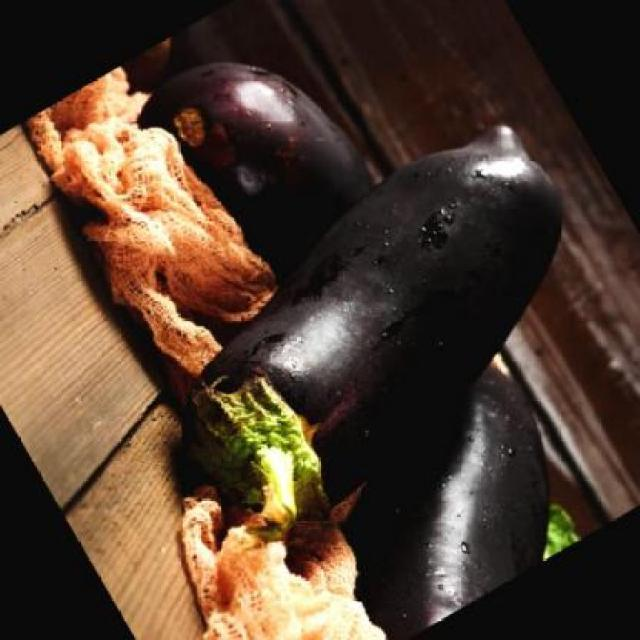eggplant: (190, 124, 568, 534), (126, 14, 399, 306), (345, 364, 558, 634)
